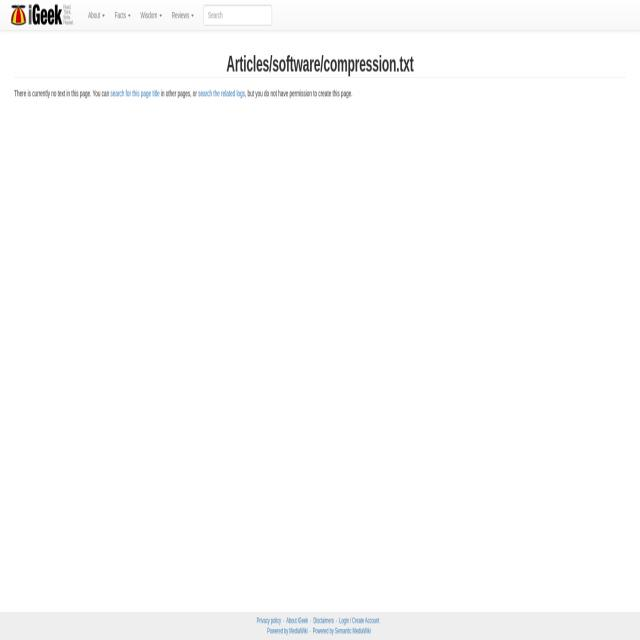button: (8, 1, 78, 30), (135, 2, 164, 28), (83, 3, 109, 28), (166, 4, 195, 25), (110, 2, 132, 27)
field: (204, 6, 272, 24)
